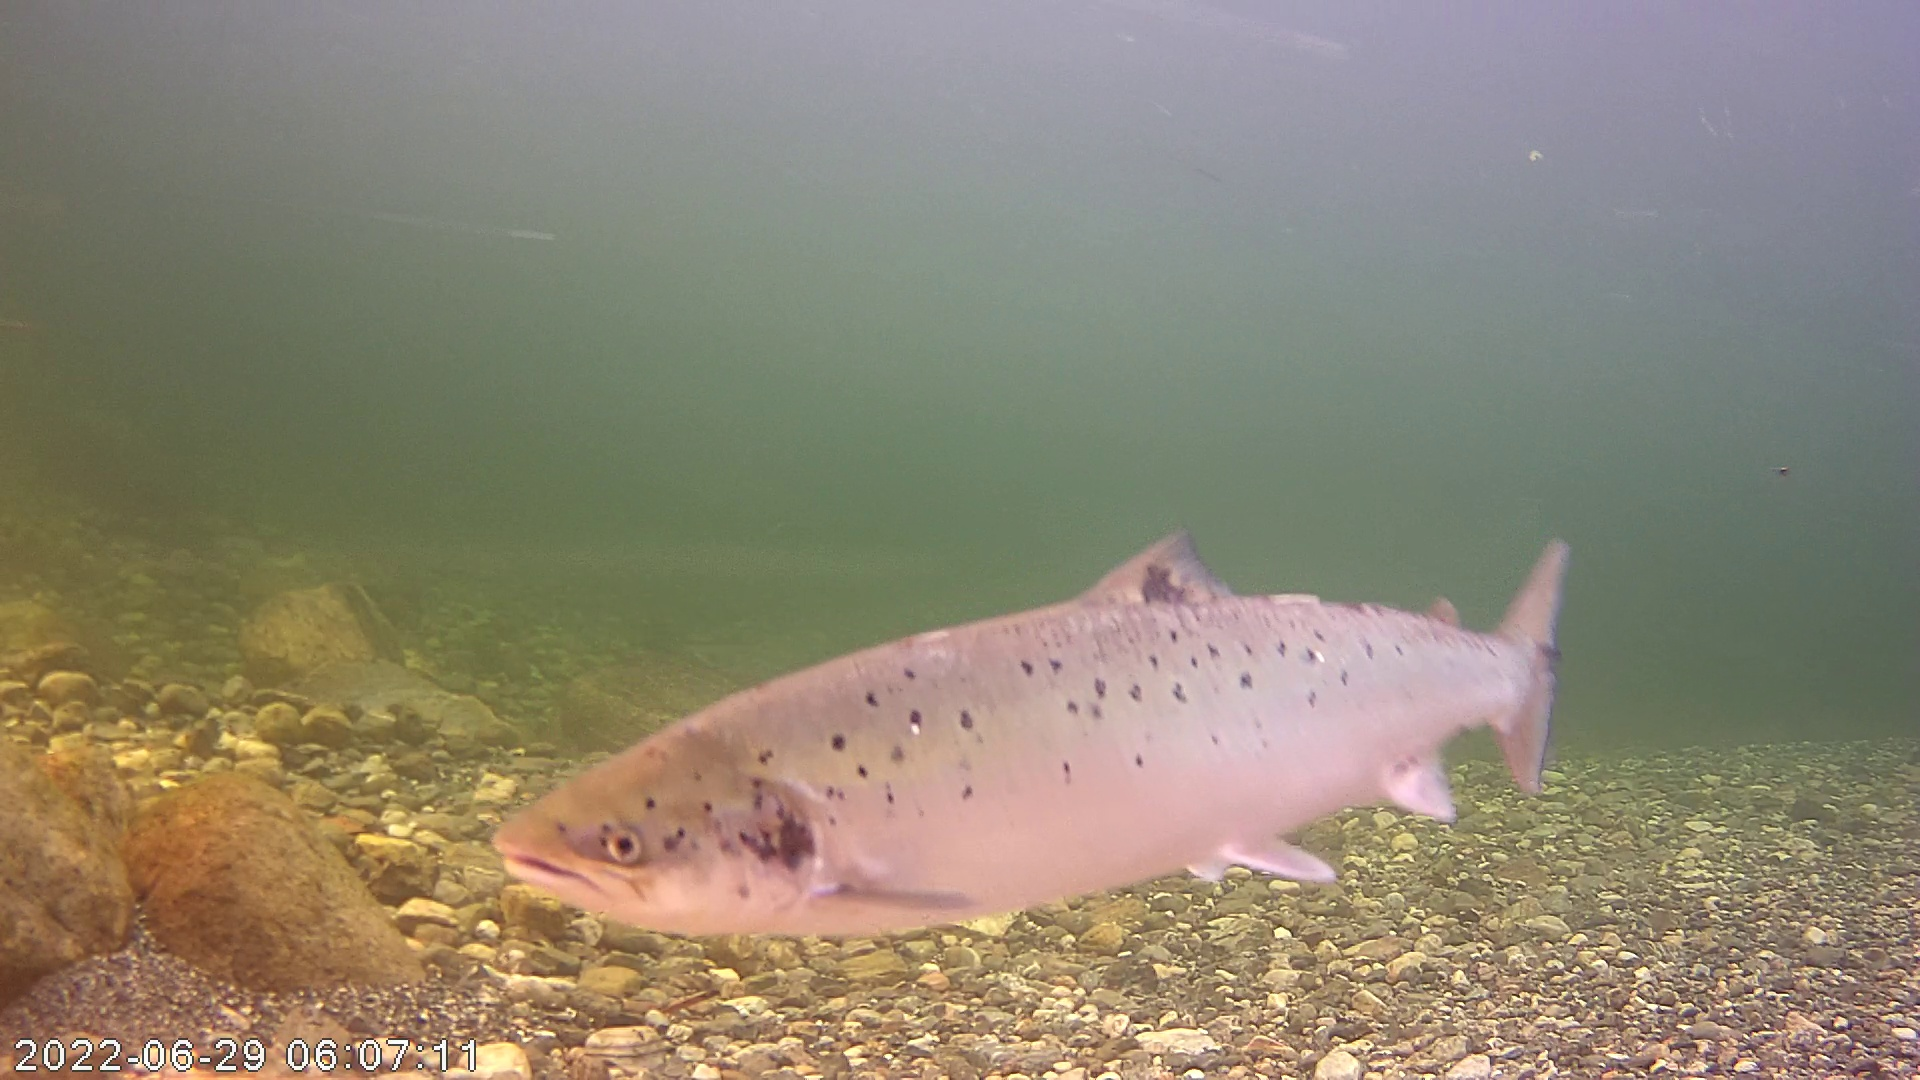salmon: (463, 455, 1571, 961)
